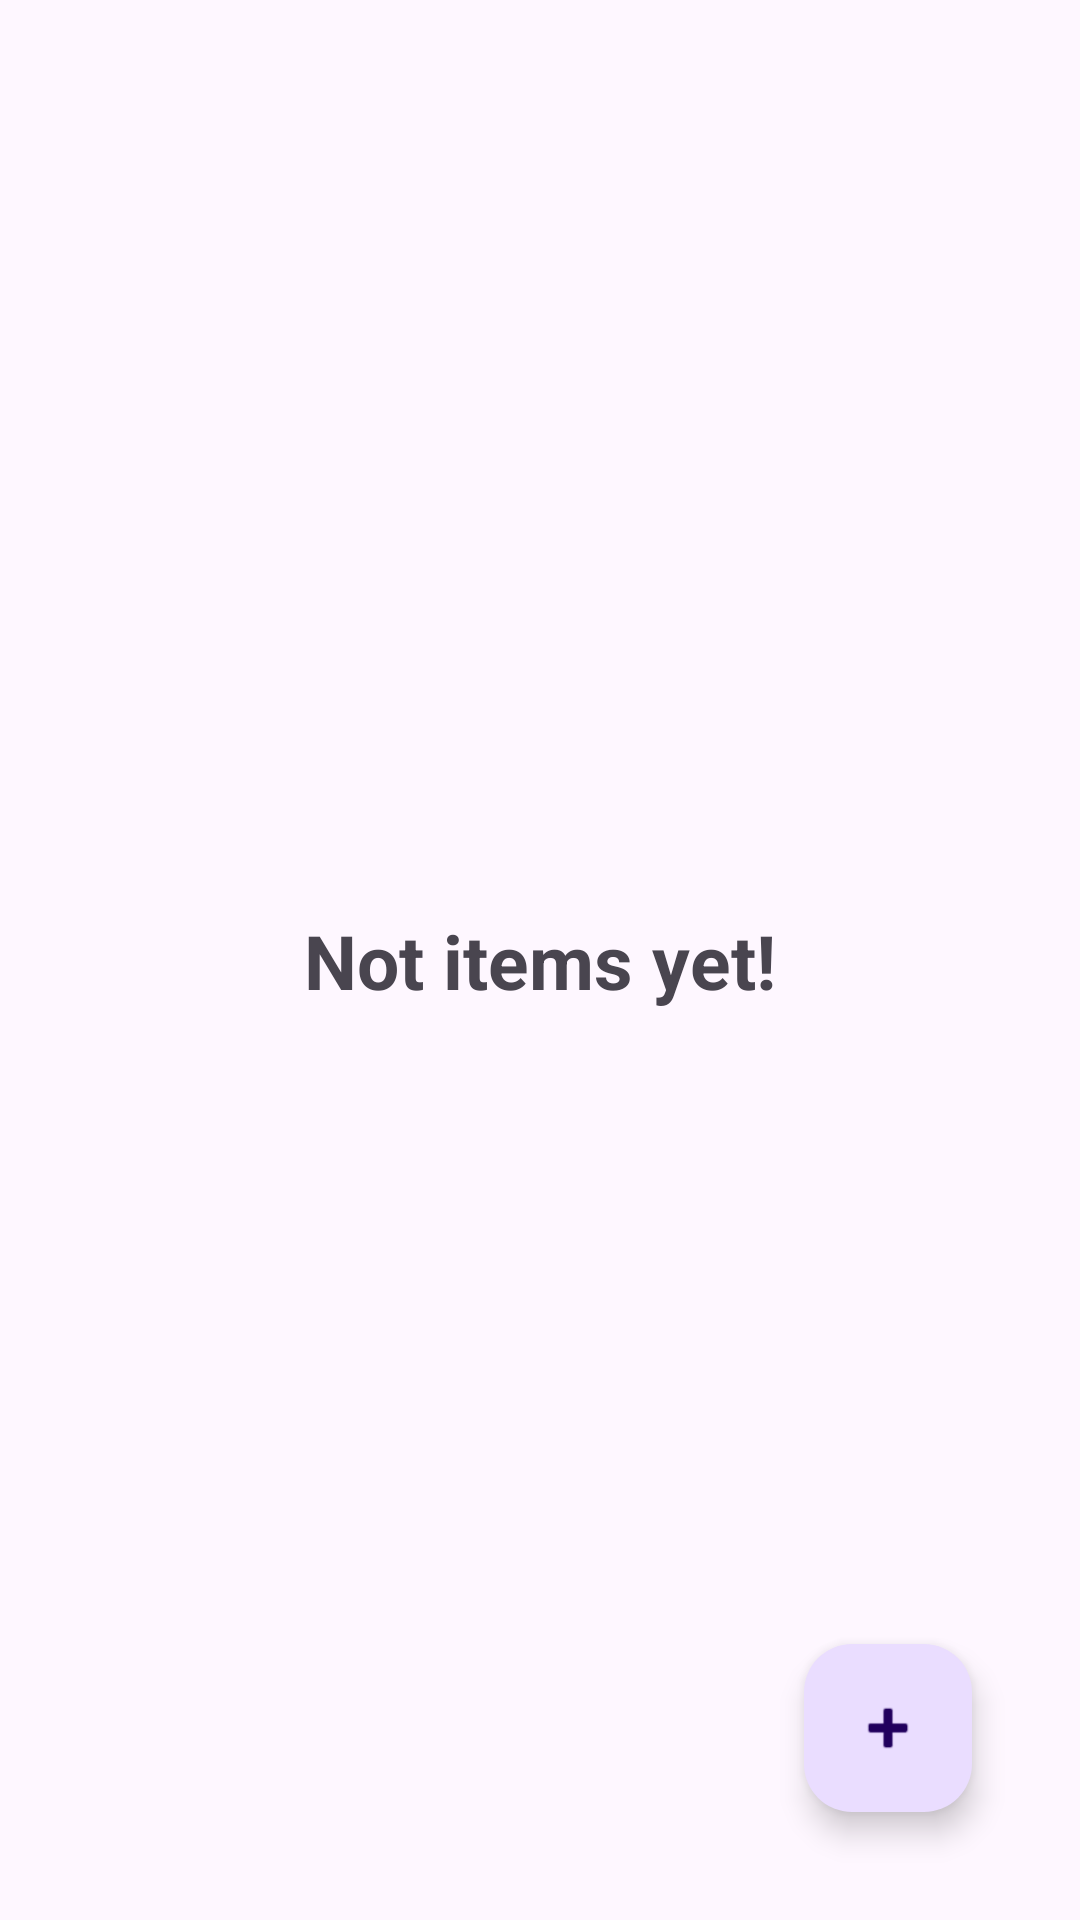

Icon bounding boxes for this 1080×1920 phone screenshot, format box=[x1, y1, x2, y2]:
add: box=[804, 1644, 972, 1812]
